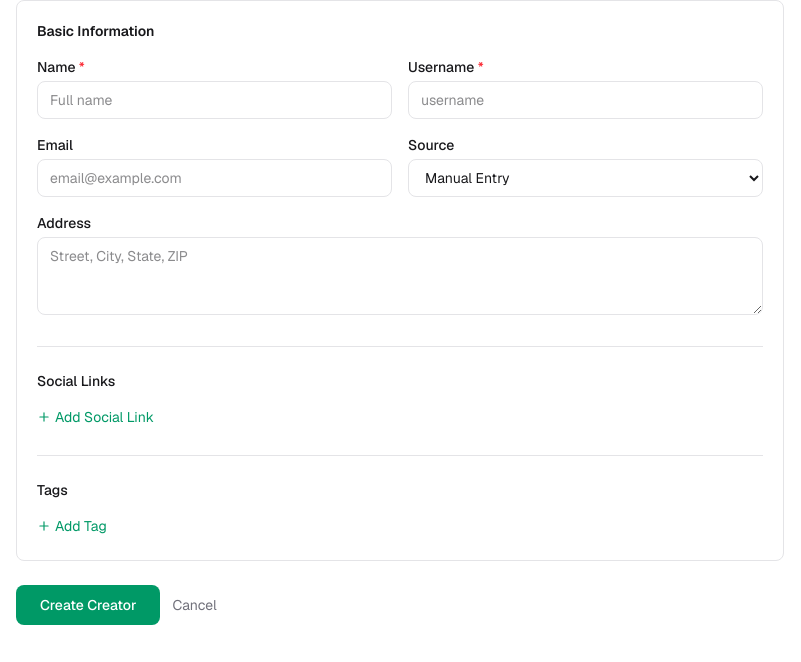
it: CreatorForm › validates email format
In the field with placeholder "Full name": (214, 100) top-left (37, 81), bottom-right (392, 119), type "Alice Chen"
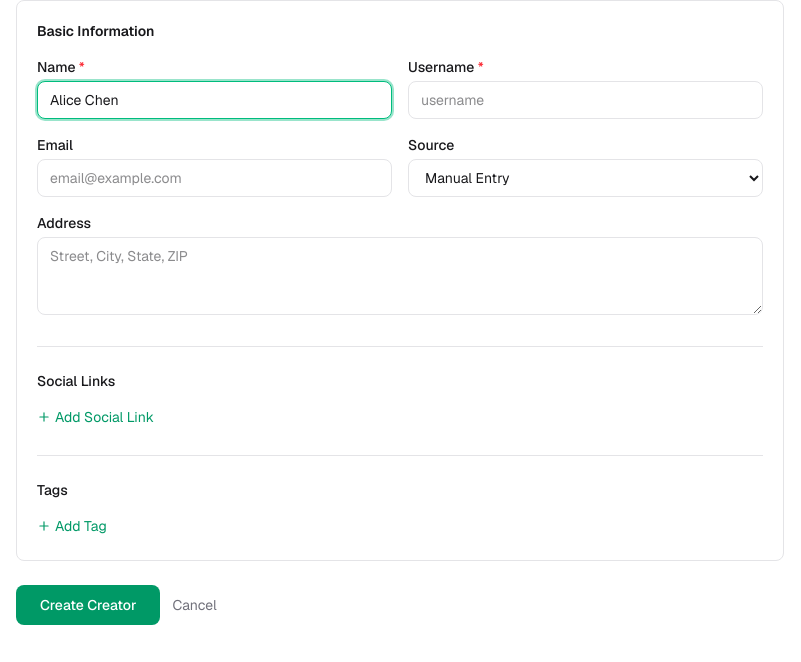
In the field with placeholder "username": (586, 100) top-left (408, 81), bottom-right (763, 119), type "alicechen"
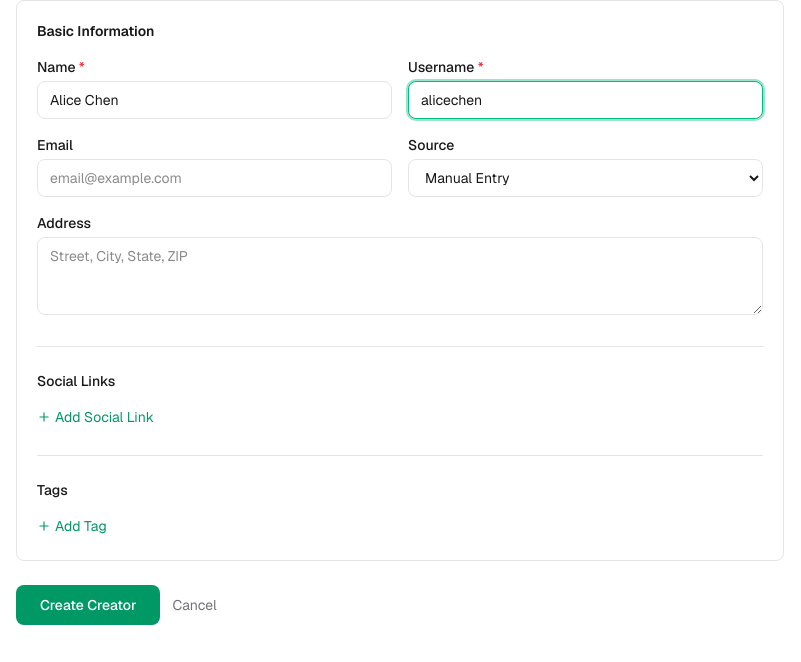
In the field with placeholder "email@example.com": (214, 178) top-left (37, 159), bottom-right (392, 197), type "notanemail"
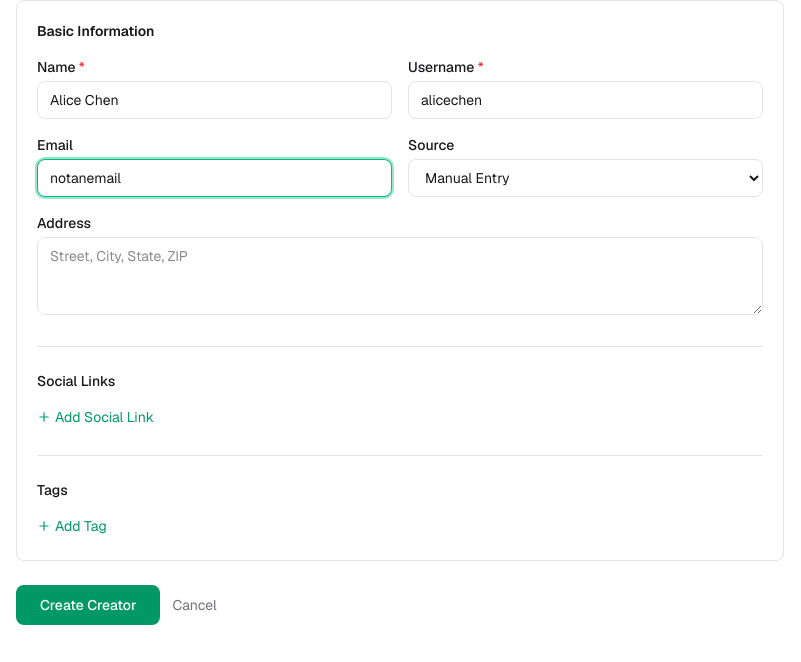
Submit the form
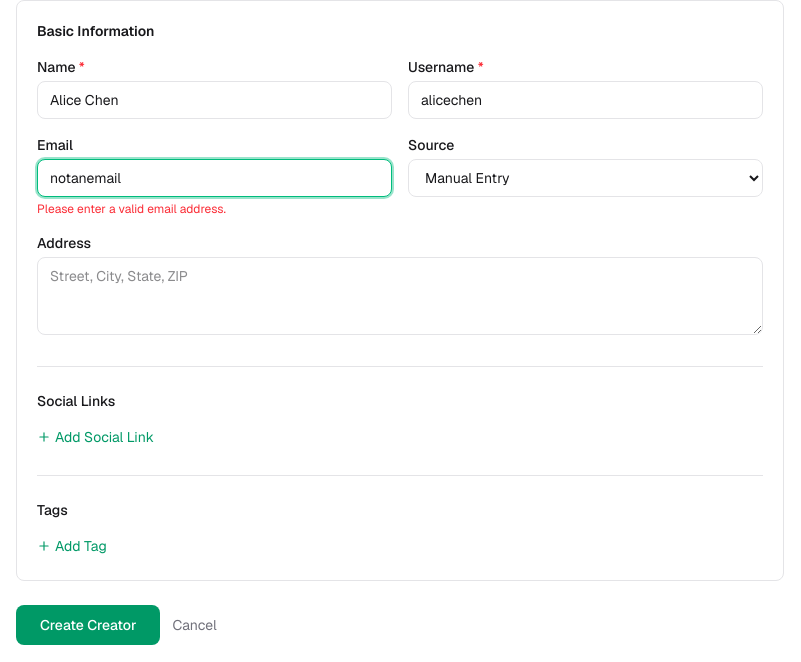
Expected: the text "Please enter a valid email address." is shown, top-left (37, 201), bottom-right (226, 217)
